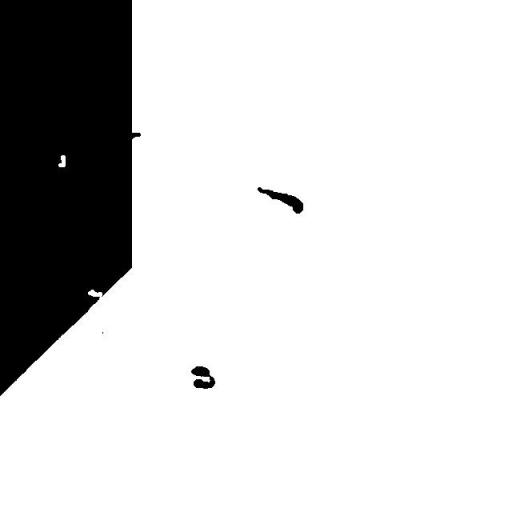copper: (250, 179, 310, 221), (184, 358, 222, 396)
mousebite: (80, 282, 110, 308)
pin-hole: (50, 148, 73, 174)
spur: (121, 125, 148, 147)
